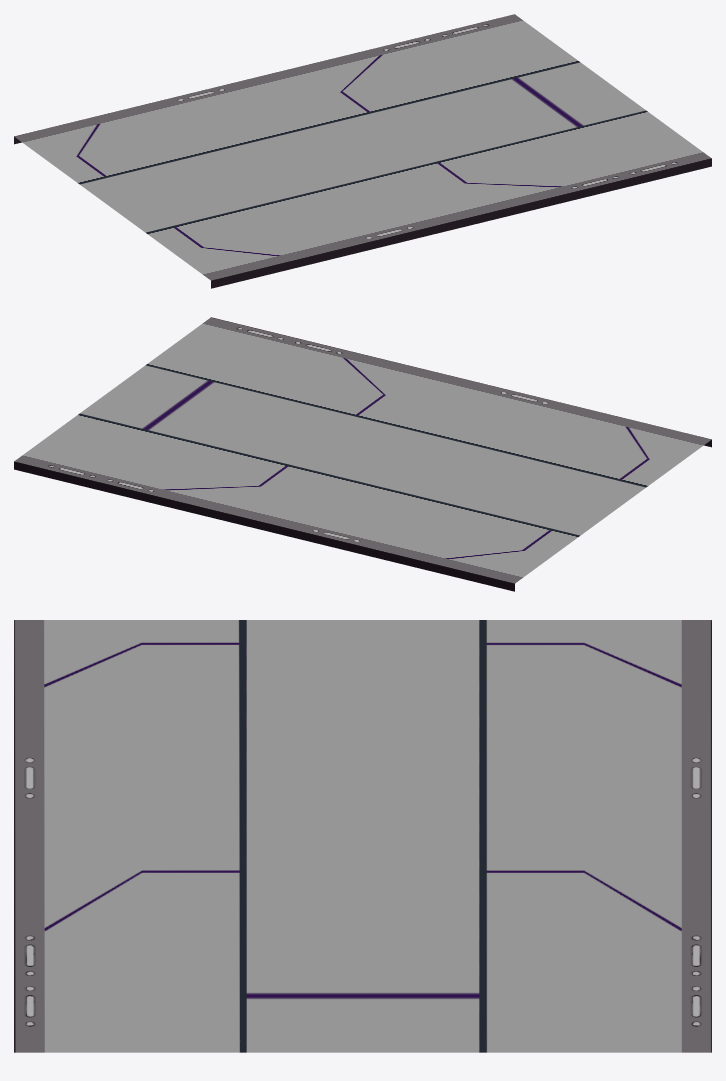
The model's file is KF_SM_LSide003.fbx.
The picture shows the model from 3 angles, top to bottom: view 1: azimuth 30°, elevation 25°; view 2: azimuth 150°, elevation 25°; view 3: azimuth 270°, elevation 25°; orthographic projection. The views are drawn at different scales.
Parts seen in each view (by area): view 1: KF_SM_LSideW003; view 2: KF_SM_LSideW003; view 3: KF_SM_LSideW003.
Part boxes in pixels (left/top/right/bottom): KF_SM_LSideW003: left=14, top=14, right=711, bottom=288; KF_SM_LSideW003: left=14, top=317, right=711, bottom=591; KF_SM_LSideW003: left=14, top=620, right=711, bottom=1052.
Size of the model in its own units: 3286 by 50 by 2240.
Materials: 1 (1 with a texture image).
